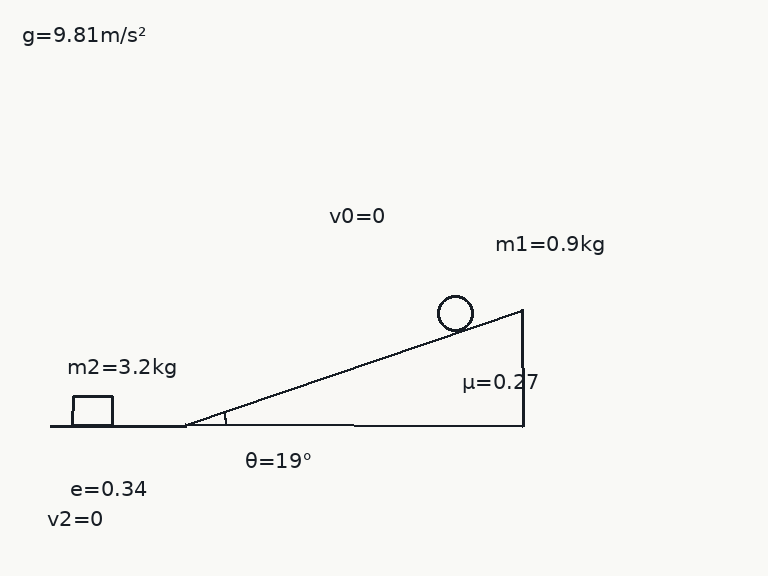ball: (435, 293, 475, 333)
block: (70, 394, 114, 427)
ramp: (184, 307, 525, 427)
